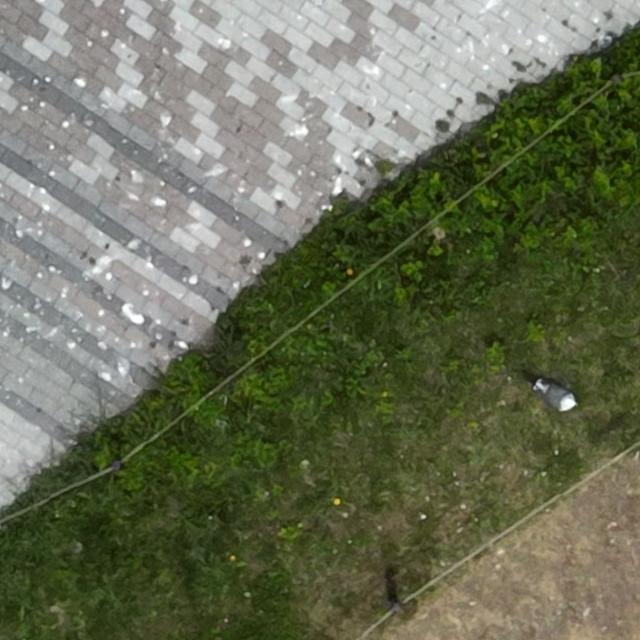umineko: (538, 385, 574, 410)
